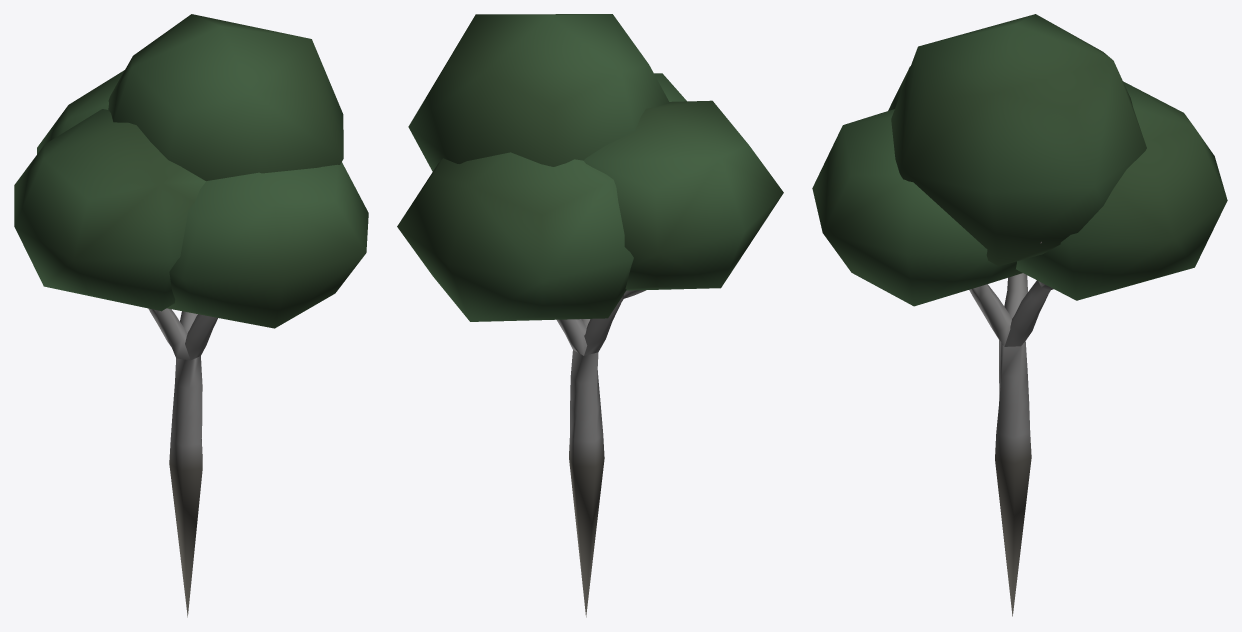
The model's file is trees-broadleaf-trees-aspen-tree_v2.glb.
3 renders of one model, left to right at view 1: azimuth 30°, elevation 25°; view 2: azimuth 150°, elevation 25°; view 3: azimuth 270°, elevation 25°, orthographic. The views are drawn at different scales.
Parts seen in each view (by area): view 1: Aspen Tree_v2; view 2: Aspen Tree_v2; view 3: Aspen Tree_v2.
Part boxes in pixels (bbox=[...]): Aspen Tree_v2: bbox=[14, 14, 368, 617]; Aspen Tree_v2: bbox=[397, 14, 783, 617]; Aspen Tree_v2: bbox=[812, 14, 1227, 616].
Size of the model in its own units: 6.68 by 12 by 7.39.
